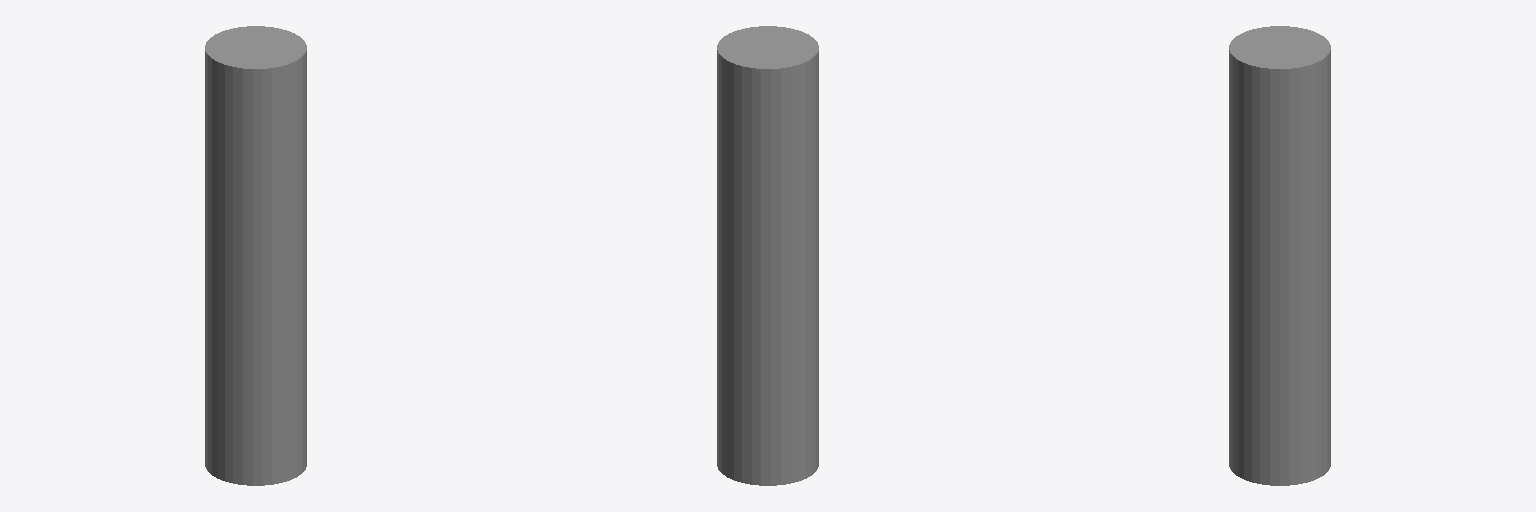
3 renders of one model, left to right at view 1: azimuth 30°, elevation 25°; view 2: azimuth 150°, elevation 25°; view 3: azimuth 270°, elevation 25°, orthographic.
Visible parts, largest first — view 1: brus1_brus1_Material; view 2: brus1_brus1_Material; view 3: brus1_brus1_Material.
Part boxes in pixels (bbox=[...]): brus1_brus1_Material: bbox=[205, 26, 306, 485]; brus1_brus1_Material: bbox=[717, 26, 818, 485]; brus1_brus1_Material: bbox=[1229, 26, 1330, 485].
Size of the model in its own units: 0.2 by 0.9 by 0.2.